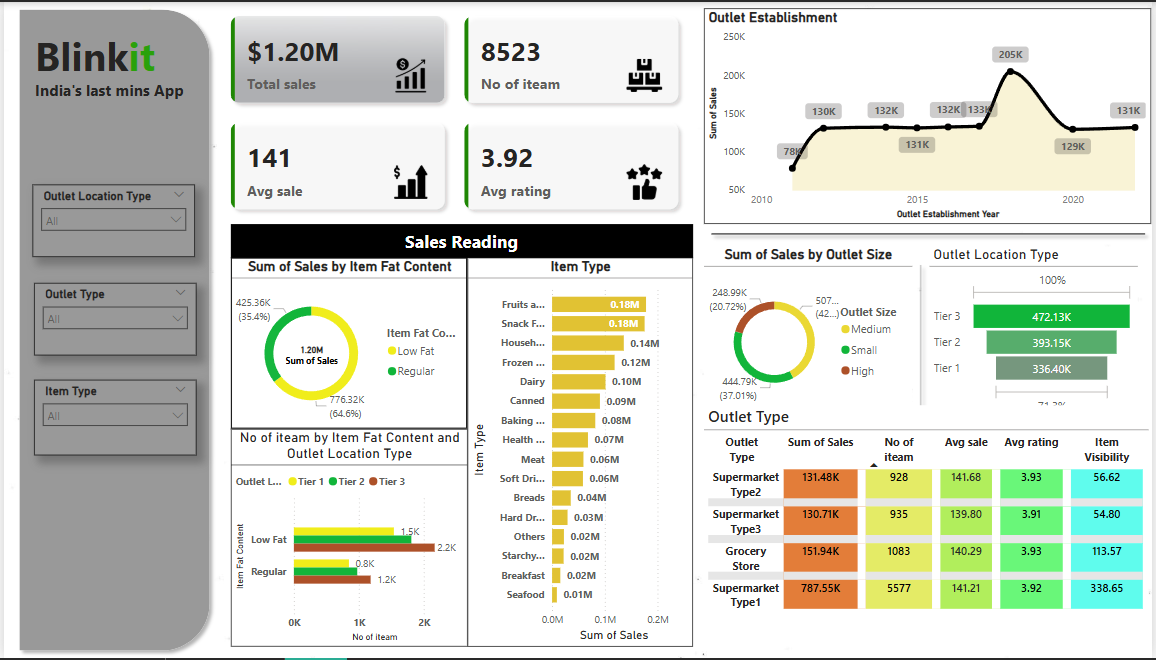

Layout of this report page (visuals, bound fields, positions):
{"tool":"powerbi","page":{"name":"Page 1","canvas":[1400,800],"ordinal":0},"visuals":[{"type":"shape","box":[9.2,0,250,799.6],"z":0},{"type":"textbox","box":[32.3,27.7,244.3,80.7],"z":1000},{"type":"textbox","box":[32.3,89.9,202.8,36.9],"z":2000},{"type":"cardVisual","fields":{"Data":["BlinkIT Grocery Data.Total sale","BlinkIT Grocery Data.No of iteam","BlinkIT Grocery Data.Avg sale","BlinkIT Grocery Data.Avg rating"]},"box":[259,0,580.7,270.8],"z":3000},{"type":"shape","box":[286.4,270.9,553.5,514.8],"z":4000},{"type":"donutChart","fields":{"Y":["Sum(BlinkIT Grocery Data.Sales)"],"Category":["BlinkIT Grocery Data.Item Fat Content"]},"box":[276.7,311.6,288.3,209],"z":5000},{"type":"cardVisual","fields":{"Data":["Sum(BlinkIT Grocery Data.Sales)"]},"box":[313.5,399.7,123.4,60.7],"z":6000},{"type":"clusteredBarChart","fields":{"Category":["BlinkIT Grocery Data.Item Fat Content"],"Y":["BlinkIT Grocery Data.No of iteam"],"Series":["BlinkIT Grocery Data.Outlet Location Type"]},"box":[276.7,520.6,288.3,265.1],"z":7000},{"type":"clusteredBarChart","title":"Item Type","fields":{"Category":["BlinkIT Grocery Data.Item Type"],"Y":["Sum(BlinkIT Grocery Data.Sales)"]},"box":[565.1,311.6,274.8,474.1],"z":8000},{"type":"textbox","box":[276.7,270.9,563.1,40.6],"z":9000},{"type":"lineChart","title":"Outlet Establishment","fields":{"Y":["Sum(BlinkIT Grocery Data.Sales)"],"Category":["BlinkIT Grocery Data.Outlet Establishment Year"]},"box":[854.2,7.8,544.7,262.5],"z":10000},{"type":"slicer","fields":{"Values":["BlinkIT Grocery Data.Outlet Location Type"]},"box":[35.3,223.4,197.9,88.2],"z":11000},{"type":"shape","box":[854.2,272.3,546.6,19.6],"z":12000},{"type":"donutChart","fields":{"Y":["Sum(BlinkIT Grocery Data.Sales)"],"Category":["BlinkIT Grocery Data.Outlet Size"]},"box":[854,298,254,208],"z":13000},{"type":"funnel","title":"Outlet Location Type","fields":{"Y":["Sum(BlinkIT Grocery Data.Sales)"],"Category":["BlinkIT Grocery Data.Outlet Location Type"]},"box":[1128,298,254,208],"z":14000},{"type":"shape","box":[1106,311,21,193],"z":15000},{"type":"pivotTable","title":"Outlet Type","fields":{"Rows":["BlinkIT Grocery Data.Outlet Type"],"Values":["Sum(BlinkIT Grocery Data.Sales)","BlinkIT Grocery Data.No of iteam","BlinkIT Grocery Data.Avg sale","BlinkIT Grocery Data.Avg rating","Sum(BlinkIT Grocery Data.Item Visibility)"]},"box":[854,492,542,294],"z":16000},{"type":"slicer","fields":{"Values":["BlinkIT Grocery Data.Outlet Type"]},"box":[36,342,198,88],"z":17000},{"type":"slicer","fields":{"Values":["BlinkIT Grocery Data.Item Type"]},"box":[36,460,198,92],"z":18000}]}

Visuals, with their boxes in screenshot pixels (x1, y1, x2, y2), scaled from the page's 1400x800 canvas onto the 1156x660 screenshot:
shape: 8:0:214:659
textbox: 27:23:228:89
textbox: 27:74:194:105
cardVisual - BlinkIT Grocery Data.Total sale x BlinkIT Grocery Data.No of iteam: 214:0:693:223
shape: 236:223:694:648
donutChart - Sum(BlinkIT Grocery Data.Sales) x BlinkIT Grocery Data.Item Fat Content: 228:257:467:429
cardVisual - Sum(BlinkIT Grocery Data.Sales): 259:330:361:380
clusteredBarChart - BlinkIT Grocery Data.Item Fat Content x BlinkIT Grocery Data.No of iteam: 228:429:467:648
"Item Type" clusteredBarChart: 467:257:694:648
textbox: 228:223:693:257
"Outlet Establishment" lineChart: 705:6:1155:223
slicer - BlinkIT Grocery Data.Outlet Location Type: 29:184:193:257
shape: 705:225:1155:241
donutChart - Sum(BlinkIT Grocery Data.Sales) x BlinkIT Grocery Data.Outlet Size: 705:246:915:417
"Outlet Location Type" funnel: 931:246:1141:417
shape: 913:257:931:416
"Outlet Type" pivotTable: 705:406:1153:648
slicer - BlinkIT Grocery Data.Outlet Type: 30:282:193:355
slicer - BlinkIT Grocery Data.Item Type: 30:380:193:455
